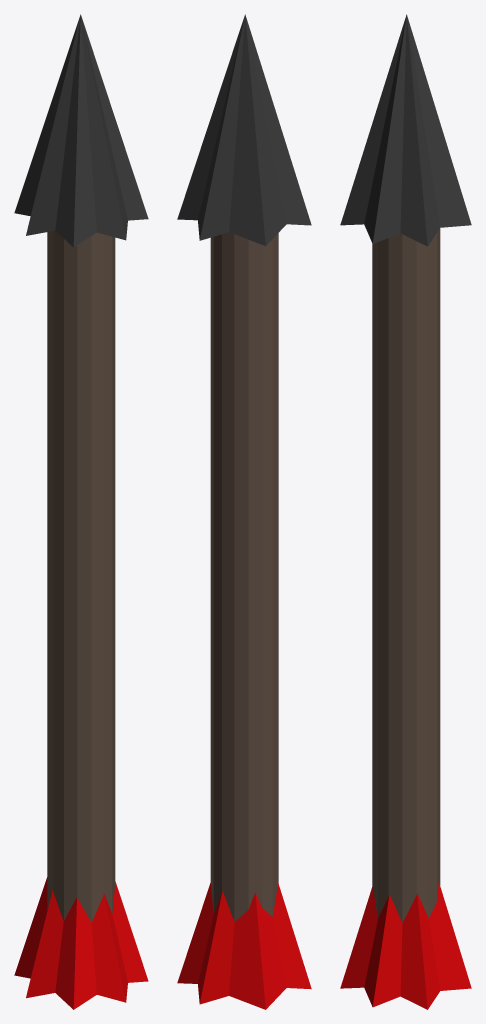
File: _rrow.fbx
3 views of the same model, side by side, from view 1: azimuth 30°, elevation 25°; view 2: azimuth 210°, elevation 25°; view 3: azimuth 270°, elevation 25° (orthographic).
Parts seen in each view (by area): view 1: Cylinder, Cone, Cone.001; view 2: Cylinder, Cone, Cone.001; view 3: Cylinder, Cone, Cone.001.
Part boxes in pixels (x1,y1,x2,y2): Cylinder: (47,230,115,922); Cone: (14,14,148,247); Cone.001: (14,877,148,1009); Cylinder: (210,232,278,921); Cone: (177,14,311,246); Cone.001: (177,882,311,1009); Cylinder: (372,228,440,922); Cone: (340,14,471,246); Cone.001: (340,882,471,1009).
Size of the model in its own units: 76.98 by 622 by 76.55.
